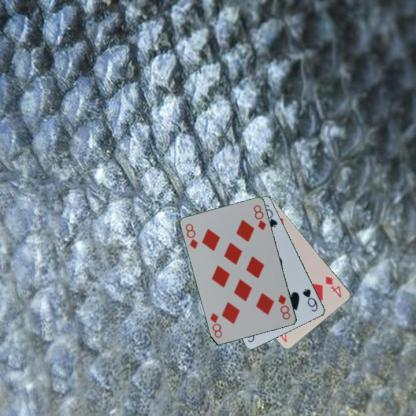4d: (323, 273, 343, 299)
6s: (300, 286, 319, 313)
8d: (275, 292, 292, 322), (182, 221, 199, 250)
